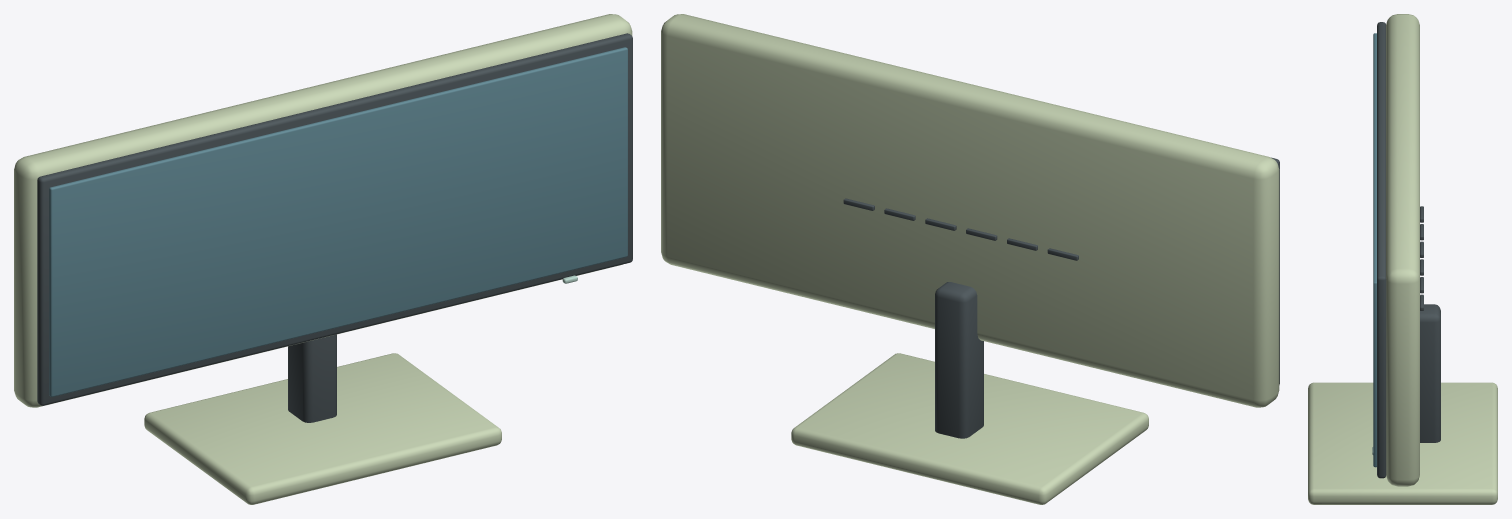
The model's file is wide-monitor.glb.
3 views of the same model, side by side, from view 1: azimuth 30°, elevation 25°; view 2: azimuth 150°, elevation 25°; view 3: azimuth 270°, elevation 25° (orthographic). The views are drawn at different scales.
Visible parts, largest first — view 1: catalog_surface_UVMap, catalog_surface_RealismUV; view 2: catalog_surface_RealismUV; view 3: catalog_surface_RealismUV, catalog_surface_UVMap.
Part boxes in pixels (left/top/right/bottom): catalog_surface_UVMap: left=49, top=47, right=627, bottom=396; catalog_surface_RealismUV: left=14, top=14, right=632, bottom=504; catalog_surface_RealismUV: left=661, top=14, right=1279, bottom=504; catalog_surface_RealismUV: left=1308, top=14, right=1497, bottom=504; catalog_surface_UVMap: left=1372, top=33, right=1376, bottom=467.
Size of the model in its own units: 0.82 by 0.45 by 0.25.
